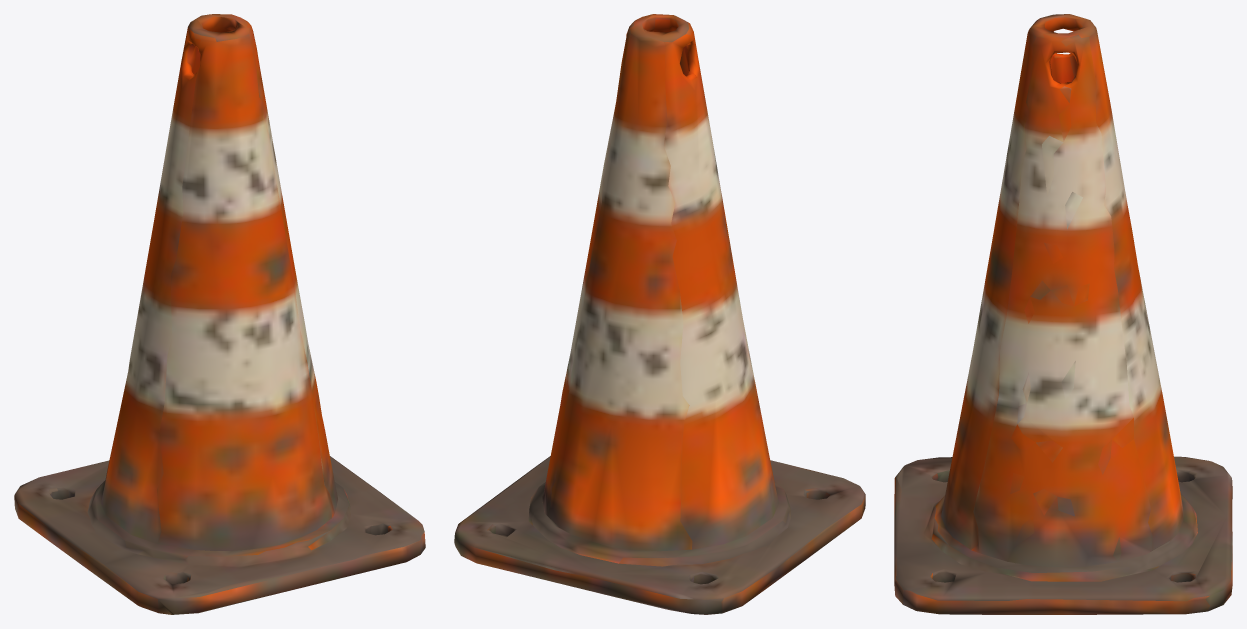
File: cono_obra.movil.glb
3 views of the same model, side by side, from view 1: azimuth 30°, elevation 25°; view 2: azimuth 150°, elevation 25°; view 3: azimuth 270°, elevation 25° (orthographic). The views are drawn at different scales.
Parts seen in each view (by area): view 1: geometry_0; view 2: geometry_0; view 3: geometry_0.
Part boxes in pixels (x1,y1,x2,y2): geometry_0: [14, 14, 425, 614]; geometry_0: [454, 14, 865, 614]; geometry_0: [894, 14, 1232, 614].
Bounding box in the file's own units: 0.3496 × 0.5999 × 0.3495.
Materials: 1 (1 with a texture image).
